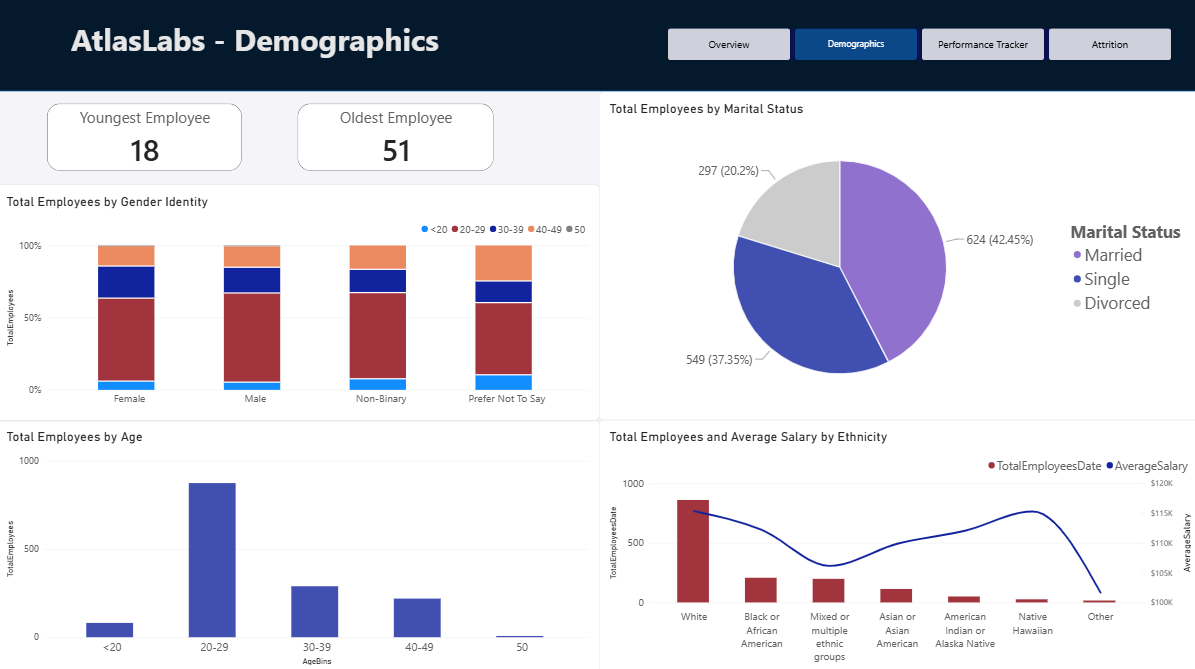

The dashboard page shown, as its layout file describes it:
{"tool":"powerbi","page":{"name":"Demographics","canvas":[1920,1080],"ordinal":1},"visuals":[{"type":"cardVisual","fields":{"Data":["Max(DimEmployee.Age)"]},"box":[480,170,312.5,107.5],"z":0},{"type":"cardVisual","fields":{"Data":["Min(DimEmployee.Age)"]},"box":[80,170,310,107.5],"z":1000},{"type":"columnChart","title":"Total Employees by Age","fields":{"Category":["DimEmployee.AgeBins"],"Y":["_Measures.TotalEmployees"]},"box":[0,672.5,960,407.5],"z":2000},{"type":"hundredPercentStackedColumnChart","title":"Total Employees by Gender Identity","fields":{"Category":["DimEmployee.Gender"],"Series":["DimEmployee.AgeBins"],"Y":["_Measures.TotalEmployees"]},"box":[0,297.5,960,375],"z":3000},{"type":"pieChart","title":"Total Employees by Marital Status","fields":{"Category":["DimEmployee.MaritalStatus"],"Y":["_Measures.TotalEmployees"]},"box":[960,150,960,522.5],"z":4000},{"type":"lineStackedColumnComboChart","title":"Total Employees and Average Salary by Ethnicity","fields":{"Category":["DimEmployee.Ethnicity"],"Y":["_Measures.TotalEmployeesDate"],"Y2":["_Measures.AverageSalary"]},"box":[960,672.5,960,407.5],"z":5000},{"type":"shape","box":[0,0,1920,150],"z":6000},{"type":"textbox","box":[120,32.5,840,85],"z":7000},{"type":"pageNavigator","box":[1070,50,800,50],"z":7001}]}

Visuals, with their boxes in screenshot pixels (x1, y1, x2, y2), scaled from the page's 1920x1080 canvas onto the 1195x669 screenshot:
cardVisual - Max(DimEmployee.Age): pyautogui.locateOnScreen(299, 105, 493, 172)
cardVisual - Min(DimEmployee.Age): pyautogui.locateOnScreen(50, 105, 243, 172)
"Total Employees by Age" columnChart: pyautogui.locateOnScreen(0, 417, 598, 668)
"Total Employees by Gender Identity" hundredPercentStackedColumnChart: pyautogui.locateOnScreen(0, 184, 598, 417)
"Total Employees by Marital Status" pieChart: pyautogui.locateOnScreen(598, 93, 1194, 417)
"Total Employees and Average Salary by Ethnicity" lineStackedColumnComboChart: pyautogui.locateOnScreen(598, 417, 1194, 668)
shape: pyautogui.locateOnScreen(0, 0, 1194, 93)
textbox: pyautogui.locateOnScreen(75, 20, 598, 73)
pageNavigator: pyautogui.locateOnScreen(666, 31, 1164, 62)
